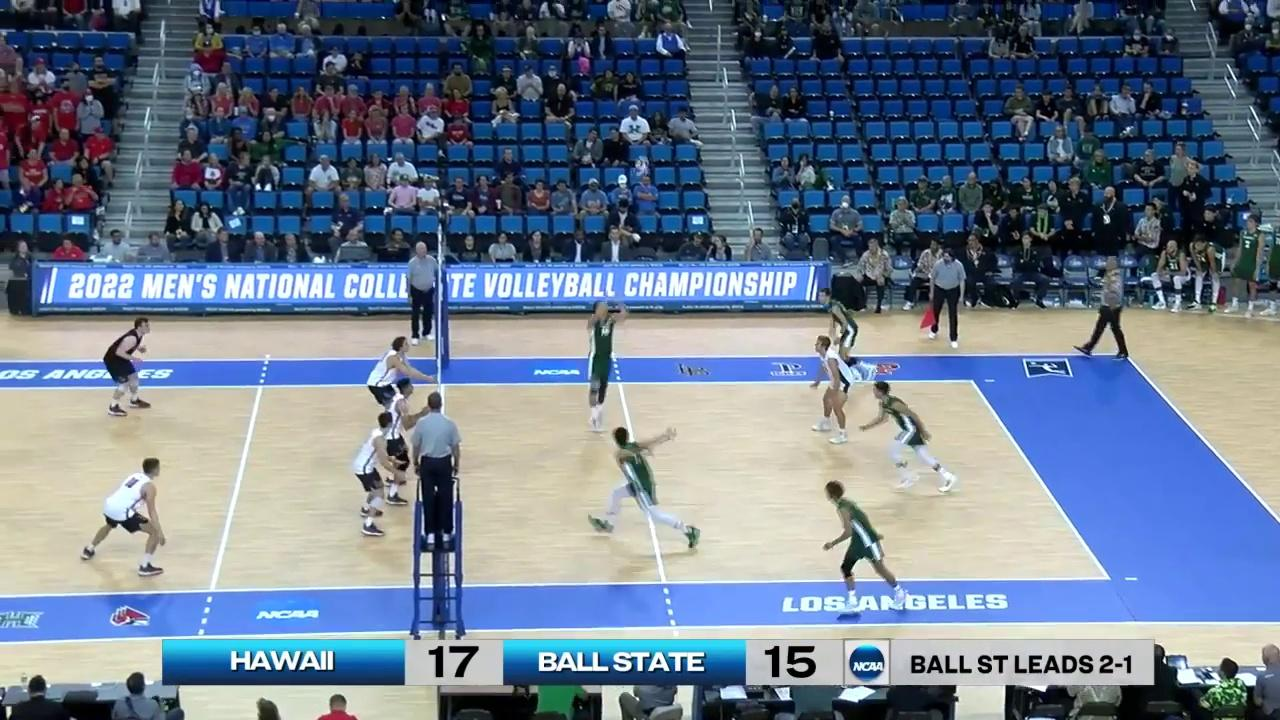player: (595, 430, 698, 549), (820, 481, 908, 610), (83, 459, 170, 575), (865, 379, 954, 489), (364, 335, 425, 434), (355, 410, 398, 540), (583, 296, 625, 427), (818, 289, 876, 381), (101, 317, 152, 416), (811, 336, 857, 442), (382, 381, 420, 502)
refree: (411, 393, 462, 550), (406, 241, 441, 348), (926, 251, 965, 346)
